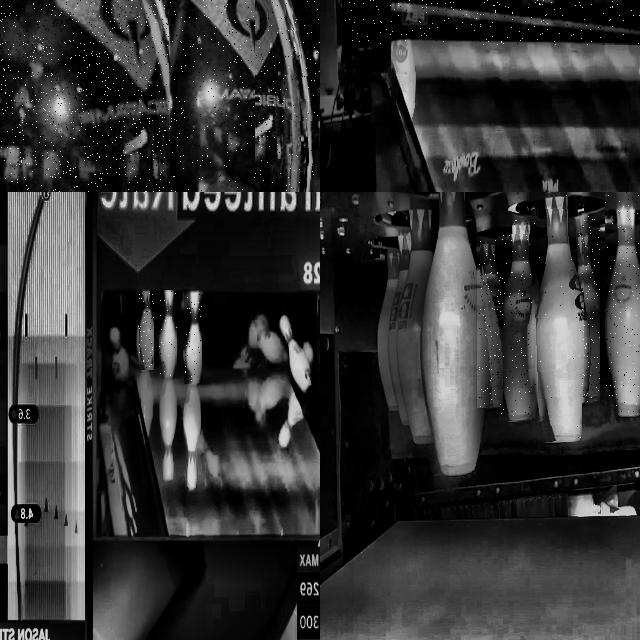bowling-pins: (149, 0, 319, 192), (420, 192, 489, 475), (534, 192, 581, 441), (396, 195, 433, 444), (605, 192, 640, 412), (501, 212, 531, 421), (573, 215, 599, 402), (387, 227, 411, 425), (376, 247, 399, 410), (479, 236, 500, 408), (185, 291, 202, 383), (159, 291, 177, 377), (138, 290, 154, 370)
